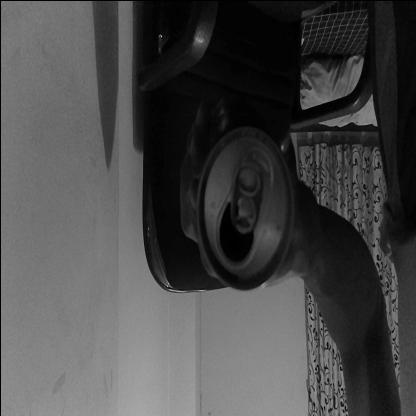alumunium_can: (197, 130, 290, 298)
